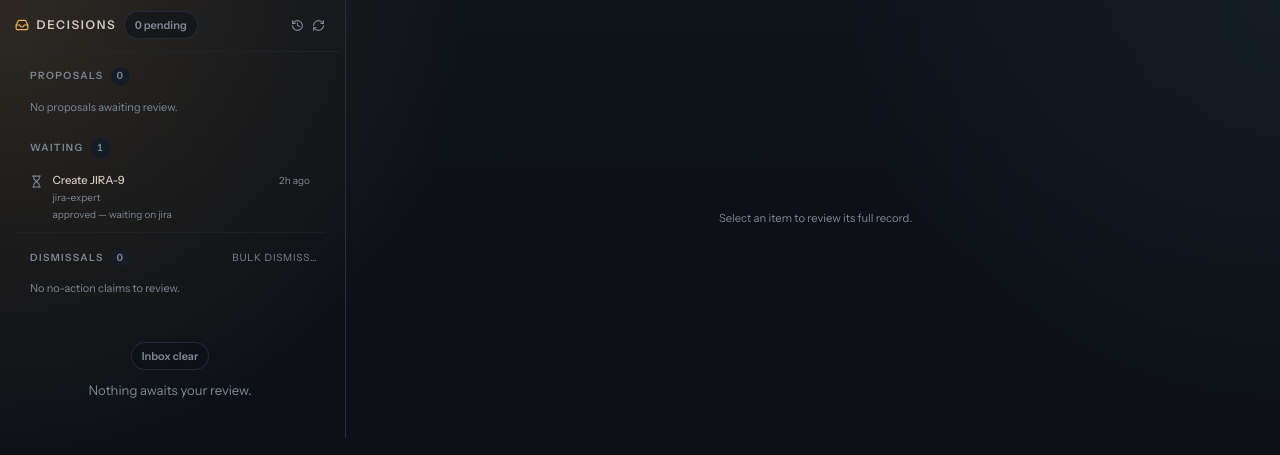
DecisionsView waiting section › keeps Dismiss beside the new button
Click the button with test id "waiting-row" at (88, 180), box [15,163,325,233]
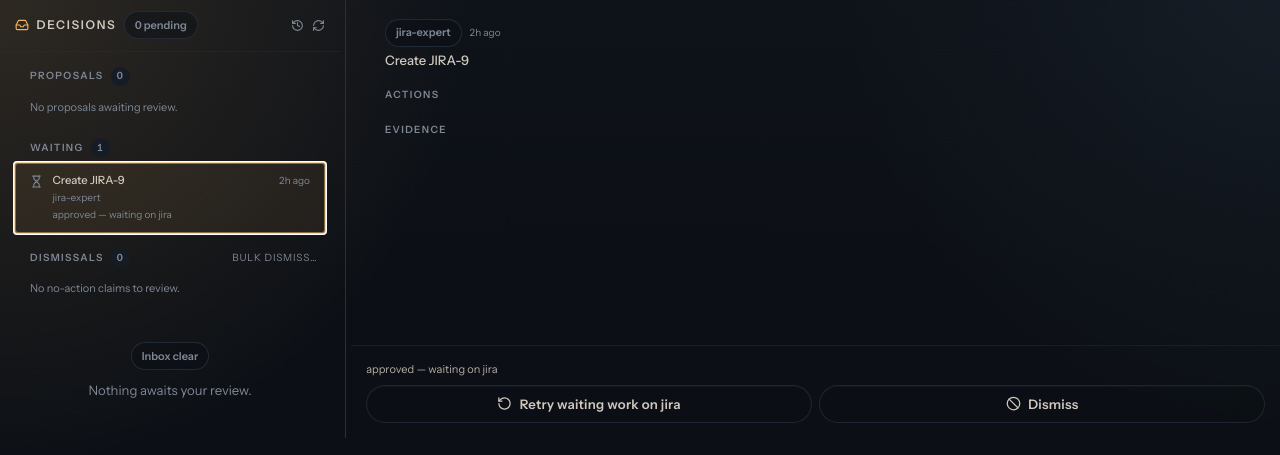
Check: the button "Dismiss" is enabled, box [819,385,1265,423]
